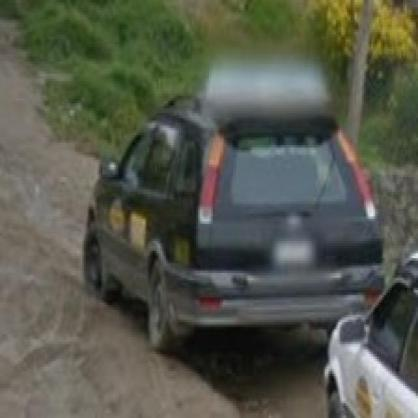car: (85, 105, 390, 352)
